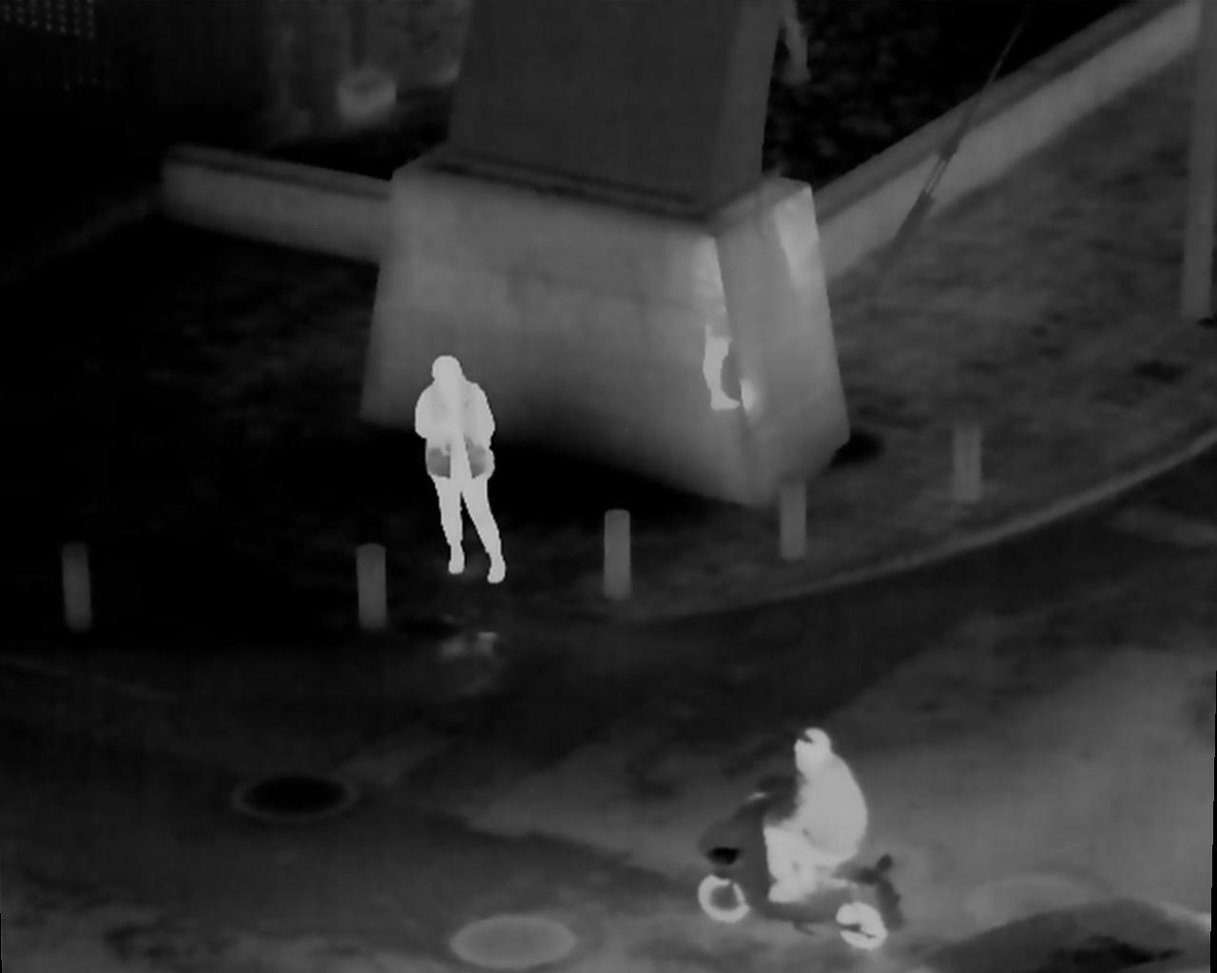person: (406, 353, 517, 582), (762, 726, 872, 922)
